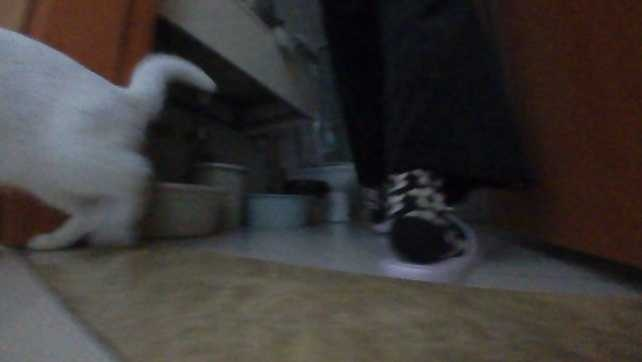door_anno: (315, 0, 491, 295)
door_sill: (16, 234, 640, 360)
toilet: (279, 117, 363, 224)
